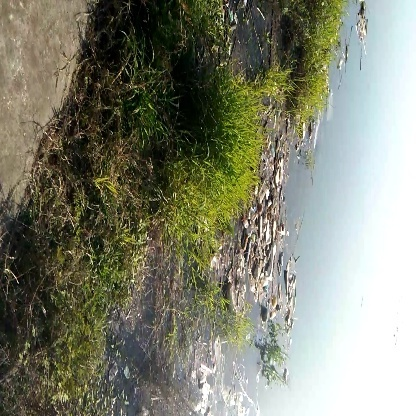grass: (175, 144, 242, 252)
